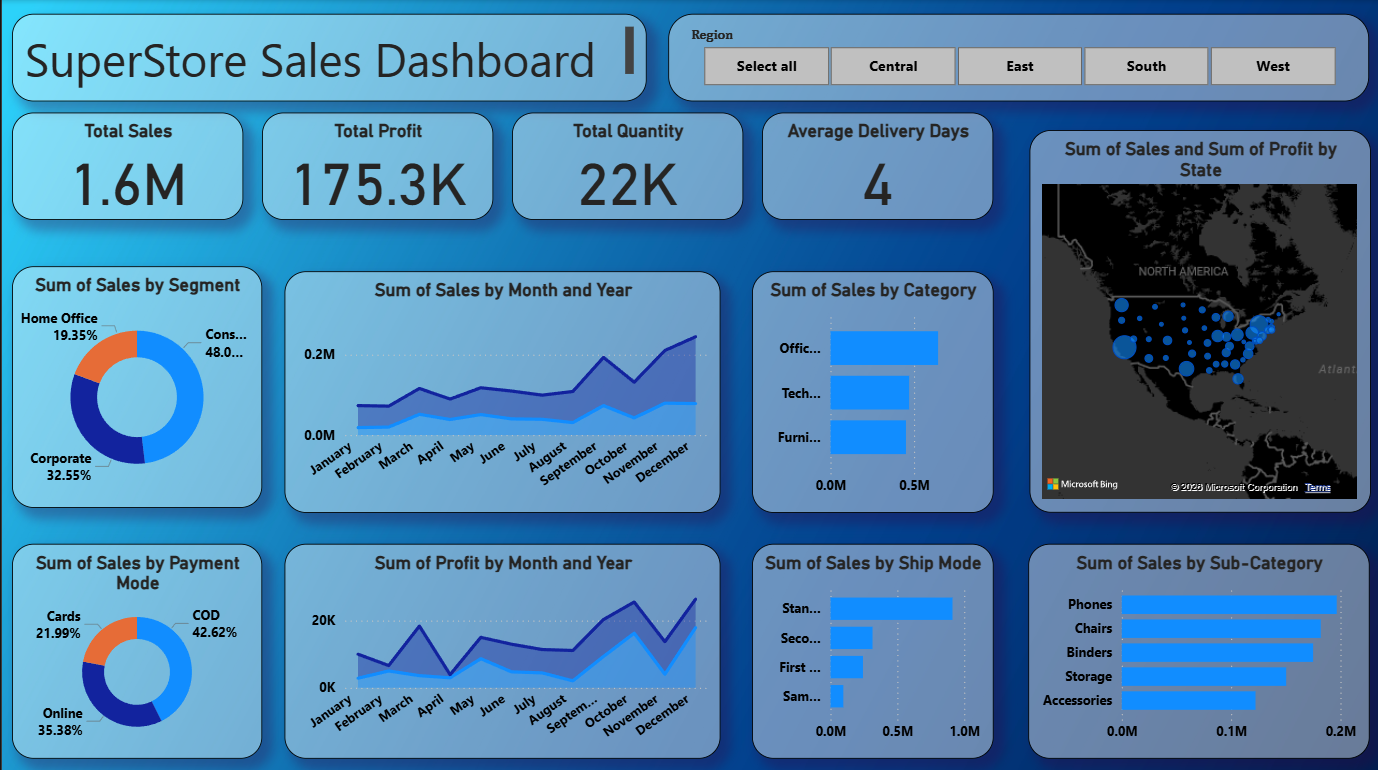

This screenshot's page, from the dashboard's own definition file:
{"tool":"powerbi","page":{"name":"Page 1","canvas":[1280,720],"ordinal":0},"visuals":[{"type":"clusteredBarChart","fields":{"Category":["SuperStore_Sales_Dataset.Category"],"Y":["Sum(SuperStore_Sales_Dataset.Sales)"]},"box":[697.7,252.3,224.4,224.4],"z":0},{"type":"clusteredBarChart","fields":{"Category":["SuperStore_Sales_Dataset.Sub-Category"],"Y":["Sum(SuperStore_Sales_Dataset.Sales)"]},"box":[954.7,505.8,317.4,200],"z":1000},{"type":"clusteredBarChart","fields":{"Y":["Sum(SuperStore_Sales_Dataset.Sales)"],"Category":["SuperStore_Sales_Dataset.Ship Mode"]},"box":[697.7,505.8,224.4,200],"z":2000},{"type":"stackedAreaChart","fields":{"Category":["SuperStore_Sales_Dataset.Order Date.Variation.Date Hierarchy.Month","SuperStore_Sales_Dataset.Order Date.Variation.Date Hierarchy.Day"],"Y":["Sum(SuperStore_Sales_Dataset.Sales)"],"Series":["SuperStore_Sales_Dataset.Order Date.Variation.Date Hierarchy.Year"]},"box":[262.8,252.3,405.8,224.4],"z":3000},{"type":"stackedAreaChart","fields":{"Category":["SuperStore_Sales_Dataset.Order Date.Variation.Date Hierarchy.Month","SuperStore_Sales_Dataset.Order Date.Variation.Date Hierarchy.Day"],"Series":["SuperStore_Sales_Dataset.Order Date.Variation.Date Hierarchy.Year"],"Y":["Sum(SuperStore_Sales_Dataset.Profit)"]},"box":[262.8,505.8,405.8,200],"z":4000},{"type":"map","fields":{"Category":["SuperStore_Sales_Dataset.State"],"Size":["Sum(SuperStore_Sales_Dataset.Sales)"]},"box":[955.8,120.9,317.4,355.8],"z":5000},{"type":"donutChart","fields":{"Category":["SuperStore_Sales_Dataset.Segment"],"Y":["Sum(SuperStore_Sales_Dataset.Sales)"]},"box":[9.3,247.7,232.6,224.4],"z":6000},{"type":"donutChart","fields":{"Y":["Sum(SuperStore_Sales_Dataset.Sales)"],"Category":["SuperStore_Sales_Dataset.Payment Mode"]},"box":[9.3,505.8,232.6,200],"z":7000},{"type":"slicer","fields":{"Values":["SuperStore_Sales_Dataset.Region"]},"box":[619.8,12.8,652.3,81.4],"z":8000},{"type":"textbox","box":[9.3,12.8,590.7,81.4],"z":9000},{"type":"card","title":"Total Sales","fields":{"Values":["Sum(SuperStore_Sales_Dataset.Sales)"]},"box":[9.3,104.7,215.1,100],"z":10000},{"type":"card","title":"Total Profit","fields":{"Values":["Sum(SuperStore_Sales_Dataset.Profit)"]},"box":[241.9,104.7,215.1,100],"z":11000},{"type":"card","title":"Total Quantity","fields":{"Values":["Sum(SuperStore_Sales_Dataset.Quantity)"]},"box":[474.4,104.7,215.1,100],"z":12000},{"type":"card","title":"Average Delivery Days","fields":{"Values":["Avg(SuperStore_Sales_Dataset.AvgDelivery)"]},"box":[707,104.7,215.1,100],"z":13000}]}

Visuals, with their boxes in screenshot pixels (x1, y1, x2, y2), scaled from the page's 1280x720 canvas onto the 1378x770 screenshot:
clusteredBarChart - SuperStore_Sales_Dataset.Category x Sum(SuperStore_Sales_Dataset.Sales): 751,270,993,510
clusteredBarChart - SuperStore_Sales_Dataset.Sub-Category x Sum(SuperStore_Sales_Dataset.Sales): 1028,541,1369,755
clusteredBarChart - Sum(SuperStore_Sales_Dataset.Sales) x SuperStore_Sales_Dataset.Ship Mode: 751,541,993,755
stackedAreaChart - SuperStore_Sales_Dataset.Order Date.Variation.Date Hierarchy.Month x SuperStore_Sales_Dataset.Order Date.Variation.Date Hierarchy.Day: 283,270,720,510
stackedAreaChart - SuperStore_Sales_Dataset.Order Date.Variation.Date Hierarchy.Month x SuperStore_Sales_Dataset.Order Date.Variation.Date Hierarchy.Day: 283,541,720,755
map - SuperStore_Sales_Dataset.State x Sum(SuperStore_Sales_Dataset.Sales): 1029,129,1371,510
donutChart - SuperStore_Sales_Dataset.Segment x Sum(SuperStore_Sales_Dataset.Sales): 10,265,260,505
donutChart - Sum(SuperStore_Sales_Dataset.Sales) x SuperStore_Sales_Dataset.Payment Mode: 10,541,260,755
slicer - SuperStore_Sales_Dataset.Region: 667,14,1369,101
textbox: 10,14,646,101
"Total Sales" card: 10,112,242,219
"Total Profit" card: 260,112,492,219
"Total Quantity" card: 511,112,742,219
"Average Delivery Days" card: 761,112,993,219
